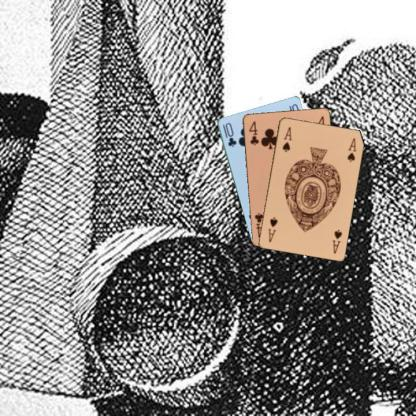10c: (220, 120, 238, 148)
4c: (246, 119, 260, 146)
As: (330, 226, 343, 255), (280, 124, 292, 153)
